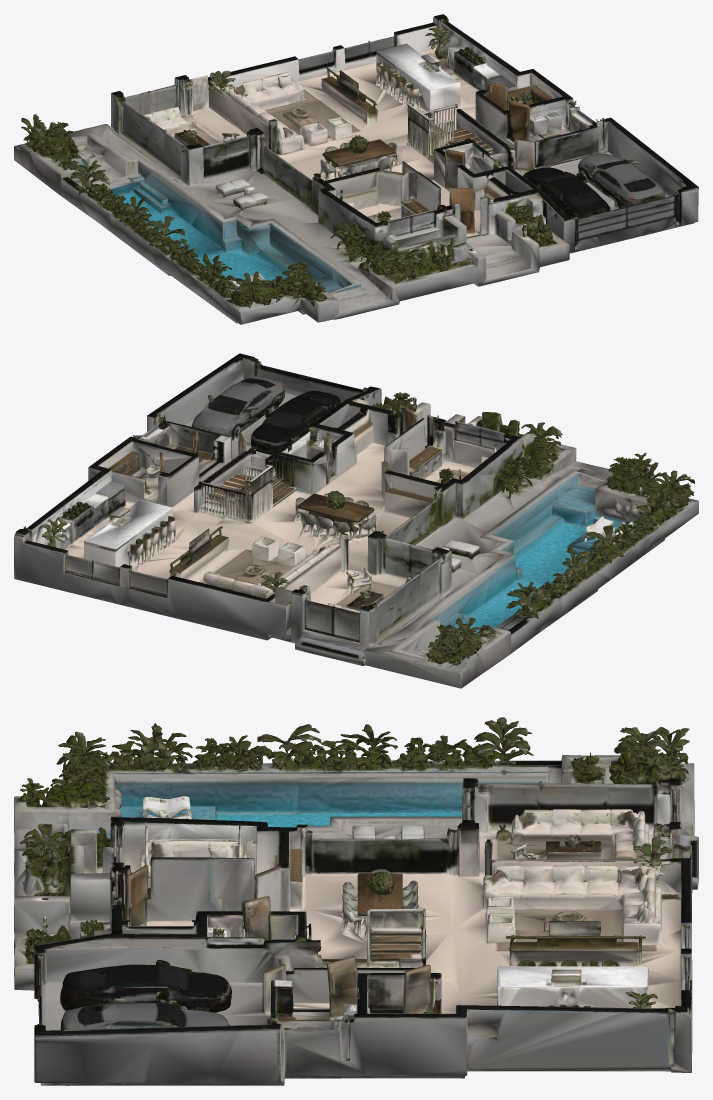
File: villa-floor-plan-lite.glb
3 views of the same model, one above another, from view 1: azimuth 30°, elevation 25°; view 2: azimuth 150°, elevation 25°; view 3: azimuth 270°, elevation 25° (orthographic). The views are drawn at different scales.
Parts seen in each view (by area): view 1: mesh_node; view 2: mesh_node; view 3: mesh_node.
Part boxes in pixels (<box>): mesh_node: <box>14,14,698,324</box>; mesh_node: <box>14,353,698,688</box>; mesh_node: <box>14,717,698,1085</box>.
Size of the model in its own units: 1.9 by 0.2886 by 1.76.
1 material, 1 textured.
